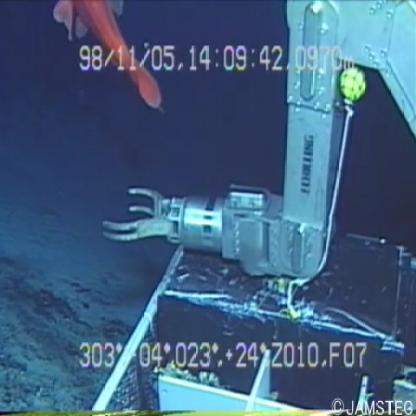Bio: (47, 1, 171, 124)
Rov: (97, 1, 416, 413)
